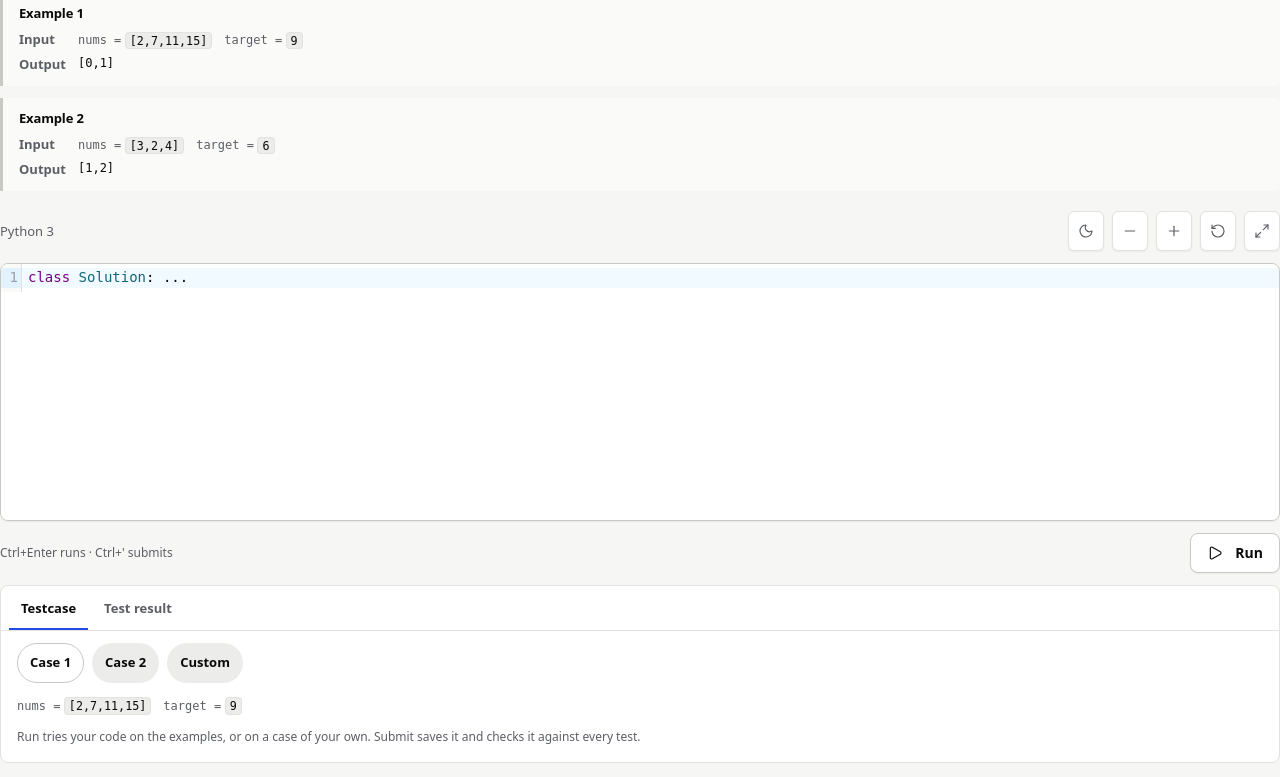
it: the coding workspace › shows a function question's arguments by name, and what the function returned apart from what it printed
expect the text "nums =" below "Example 1" is shown: met, box top-left (78, 33), bottom-right (121, 47)
Click the button "Run". click: (1235, 553)
box: top-left (1190, 533), bottom-right (1279, 573)
(page scrolled)
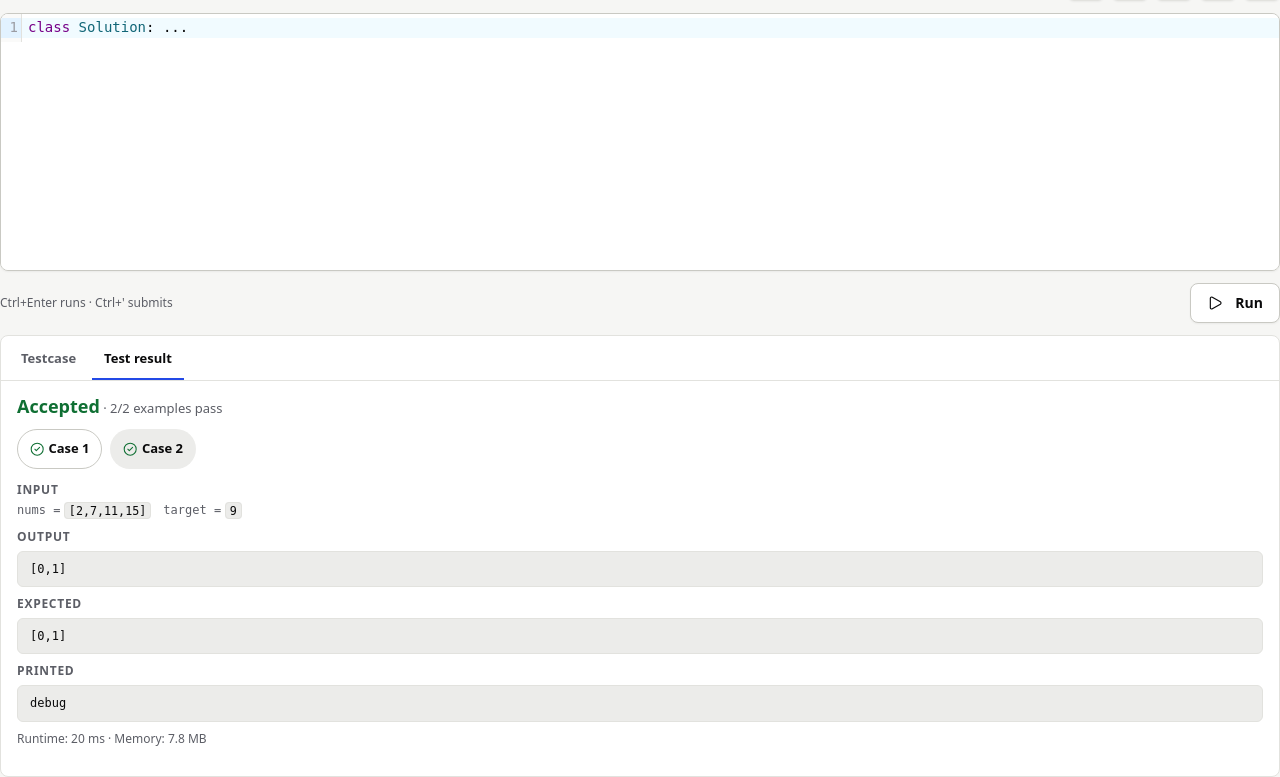
expect the element named "Run results" shows "Accepted": met, box top-left (17, 394), bottom-right (100, 418)
expect the element named "Run results" shows "2/2 examples pass": met, box top-left (110, 399), bottom-right (223, 417)
expect the text named "Output" reads "[0,1]": met, box top-left (30, 562), bottom-right (66, 576)
